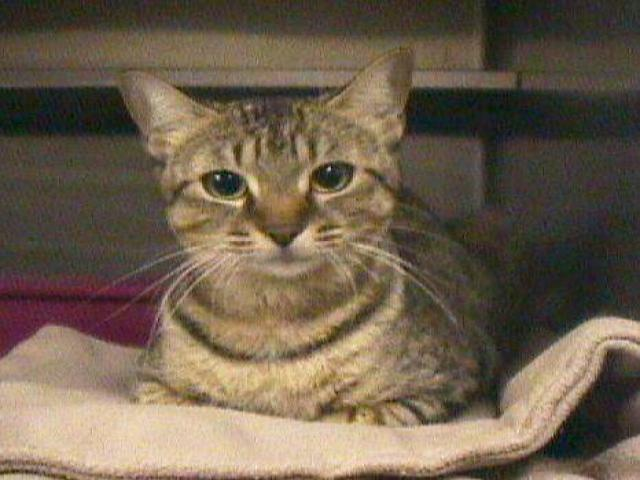cat: (97, 53, 582, 438)
